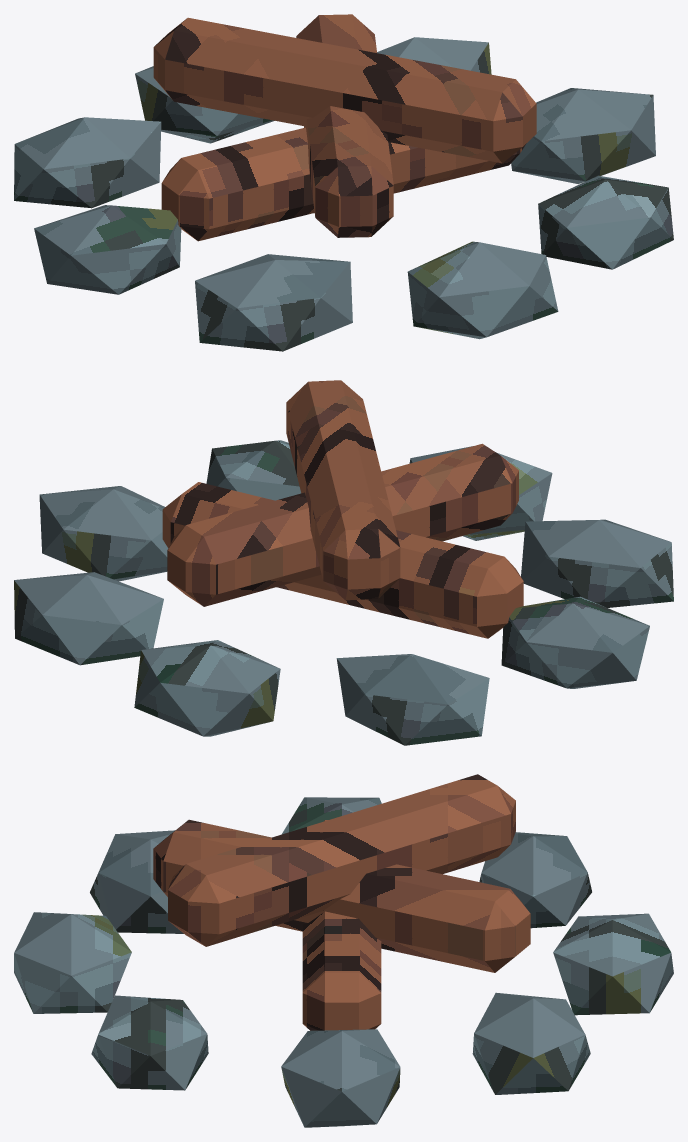
File: enfeite_fogueira.fbx
3 views of the same model, one above another, from view 1: azimuth 30°, elevation 25°; view 2: azimuth 150°, elevation 25°; view 3: azimuth 270°, elevation 25° (orthographic). The views are drawn at different scales.
Visible parts, largest first — view 1: bosque_enfeite_fogueira; view 2: bosque_enfeite_fogueira; view 3: bosque_enfeite_fogueira.
Boxes of the visible parts, x1,y1,x2,y2 form: bosque_enfeite_fogueira: (14, 14, 673, 351); bosque_enfeite_fogueira: (14, 380, 673, 745); bosque_enfeite_fogueira: (14, 774, 673, 1127).
Bounding box in the file's own units: 62.4 × 18.41 × 58.53.
Materials: 2 (2 with a texture image).
